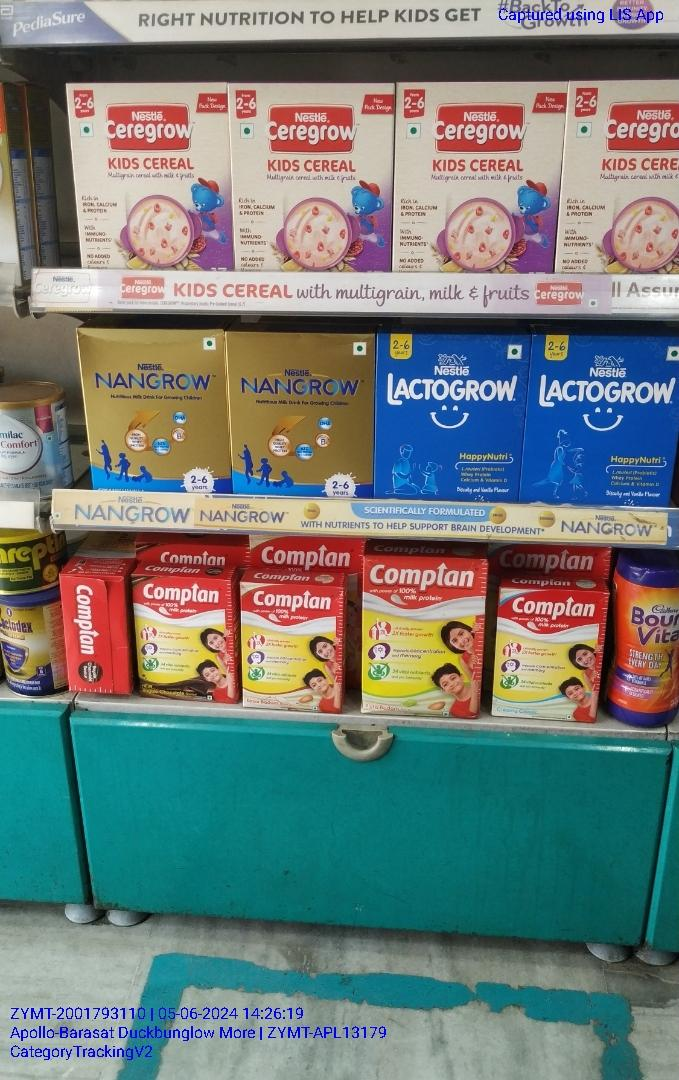BOURN_VITA_500_G_JAR: (611, 549, 679, 728)
COMPLAN_CHOCOLATE_200_GMS_PACK: (134, 574, 238, 702)
COMPLAN_KESAR_BADAM_200_GMS_PACK: (242, 580, 343, 713)
COMPLAN_PISTA_BADAM_500_GMS_PACK: (360, 553, 488, 717)
